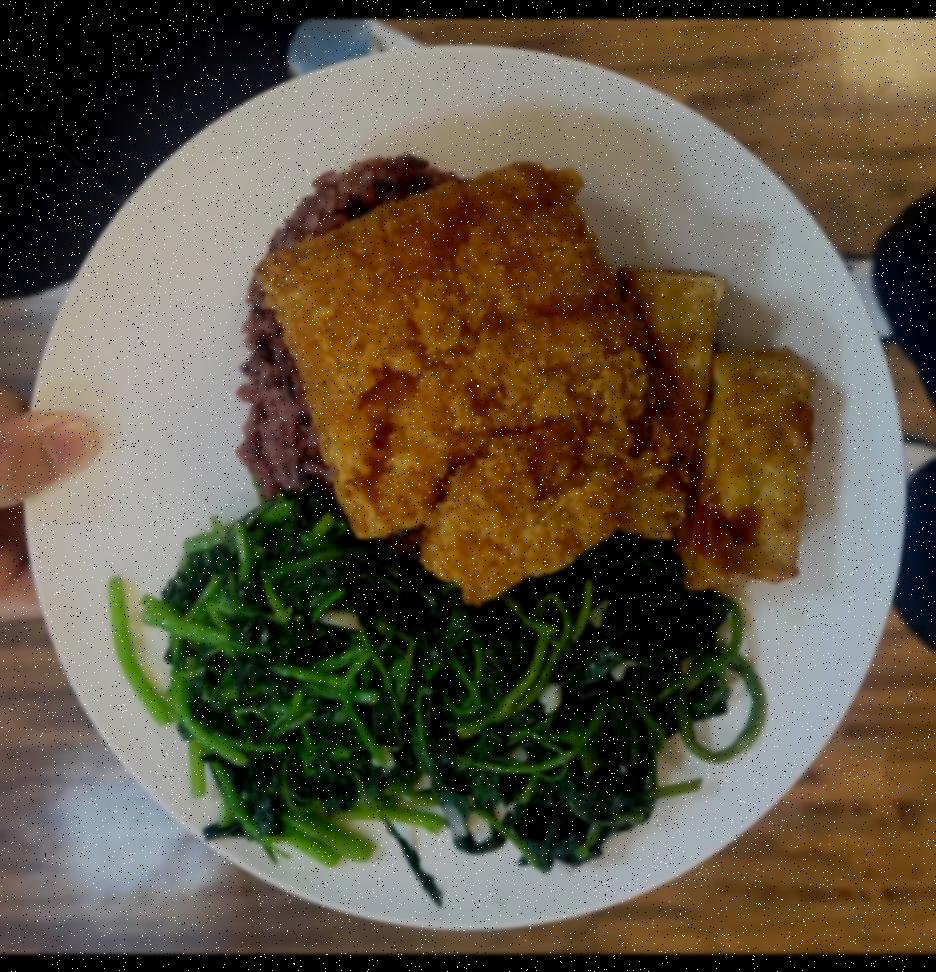kara chicken leg steak: (254, 157, 704, 594)
plate: (14, 41, 924, 928)
purple rice: (232, 154, 506, 510)
side dish: (140, 512, 458, 855), (438, 552, 751, 876), (606, 256, 817, 602)
